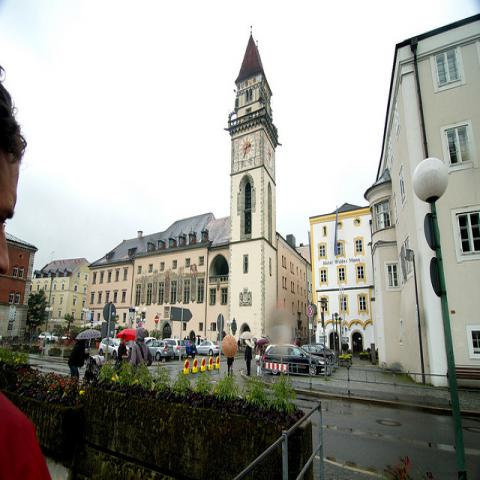car: (49, 322, 373, 362), (263, 344, 324, 378), (98, 337, 130, 360), (148, 341, 173, 361), (164, 338, 186, 359), (196, 340, 220, 357), (302, 344, 324, 359), (184, 340, 196, 359), (38, 332, 56, 344), (56, 336, 77, 346), (324, 344, 334, 363), (144, 337, 159, 344), (85, 342, 89, 348)
